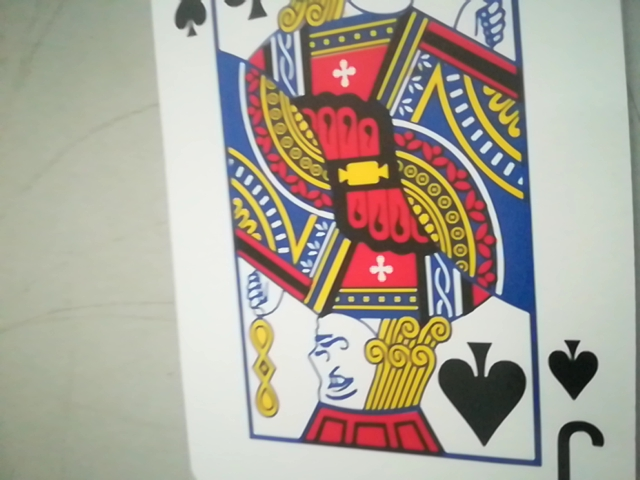ht j: (540, 332, 612, 480)
